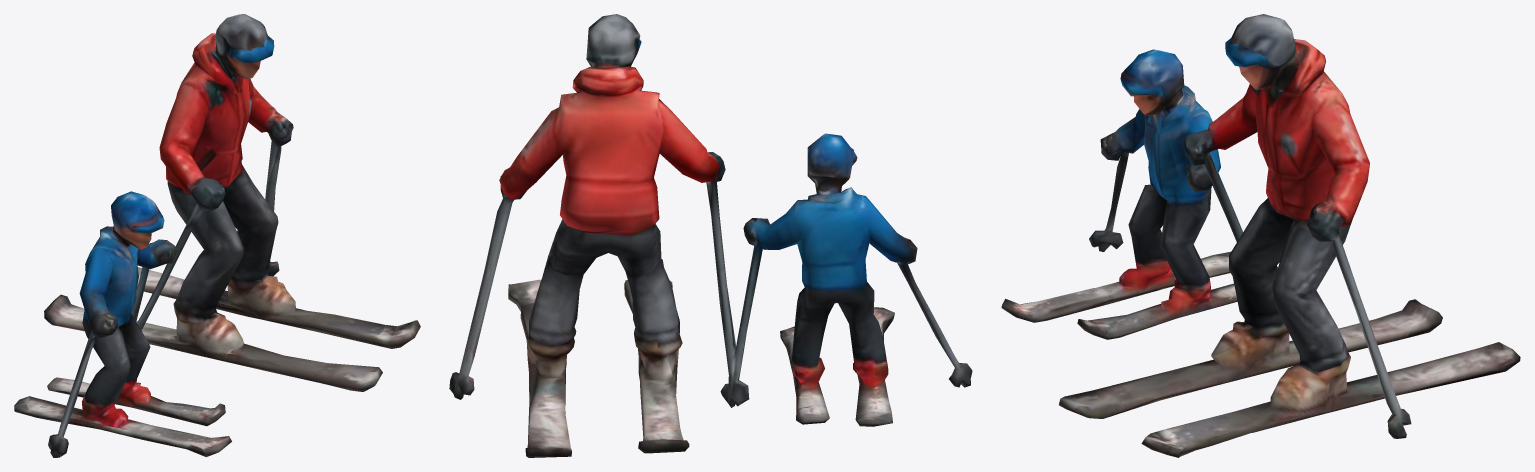
Rendered from dio_ski_family.glb.
The picture shows the model from 3 angles, left to right: view 1: azimuth 30°, elevation 25°; view 2: azimuth 150°, elevation 25°; view 3: azimuth 270°, elevation 25°; orthographic projection. The views are drawn at different scales.
Visible parts, largest first — view 1: tripo_part_7, tripo_part_8; view 2: tripo_part_7, tripo_part_8; view 3: tripo_part_7, tripo_part_8.
Boxes of the visible parts, bbox=[...] form: tripo_part_7: bbox=[44, 14, 420, 391]; tripo_part_8: bbox=[14, 191, 231, 457]; tripo_part_7: bbox=[449, 14, 735, 457]; tripo_part_8: bbox=[720, 133, 972, 426]; tripo_part_7: bbox=[1059, 14, 1520, 457]; tripo_part_8: bbox=[1001, 49, 1242, 339].
Size of the model in its own units: 0.2475 by 0.1952 by 0.2424.
Materials: 2 (2 with a texture image).
